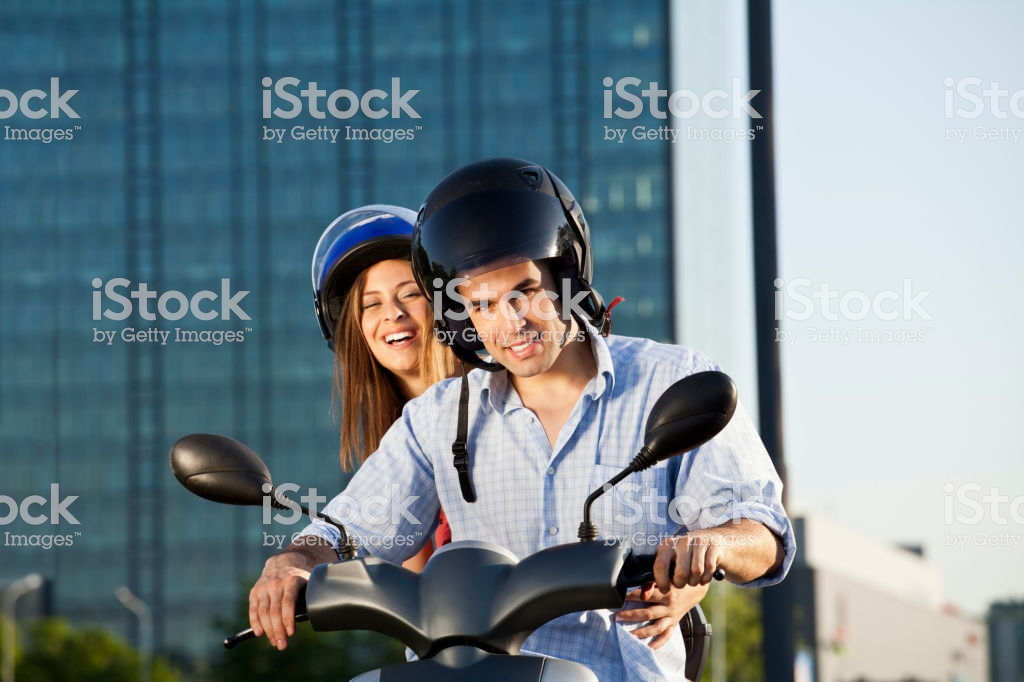helmet: (401, 175, 609, 276), (297, 214, 450, 267)
